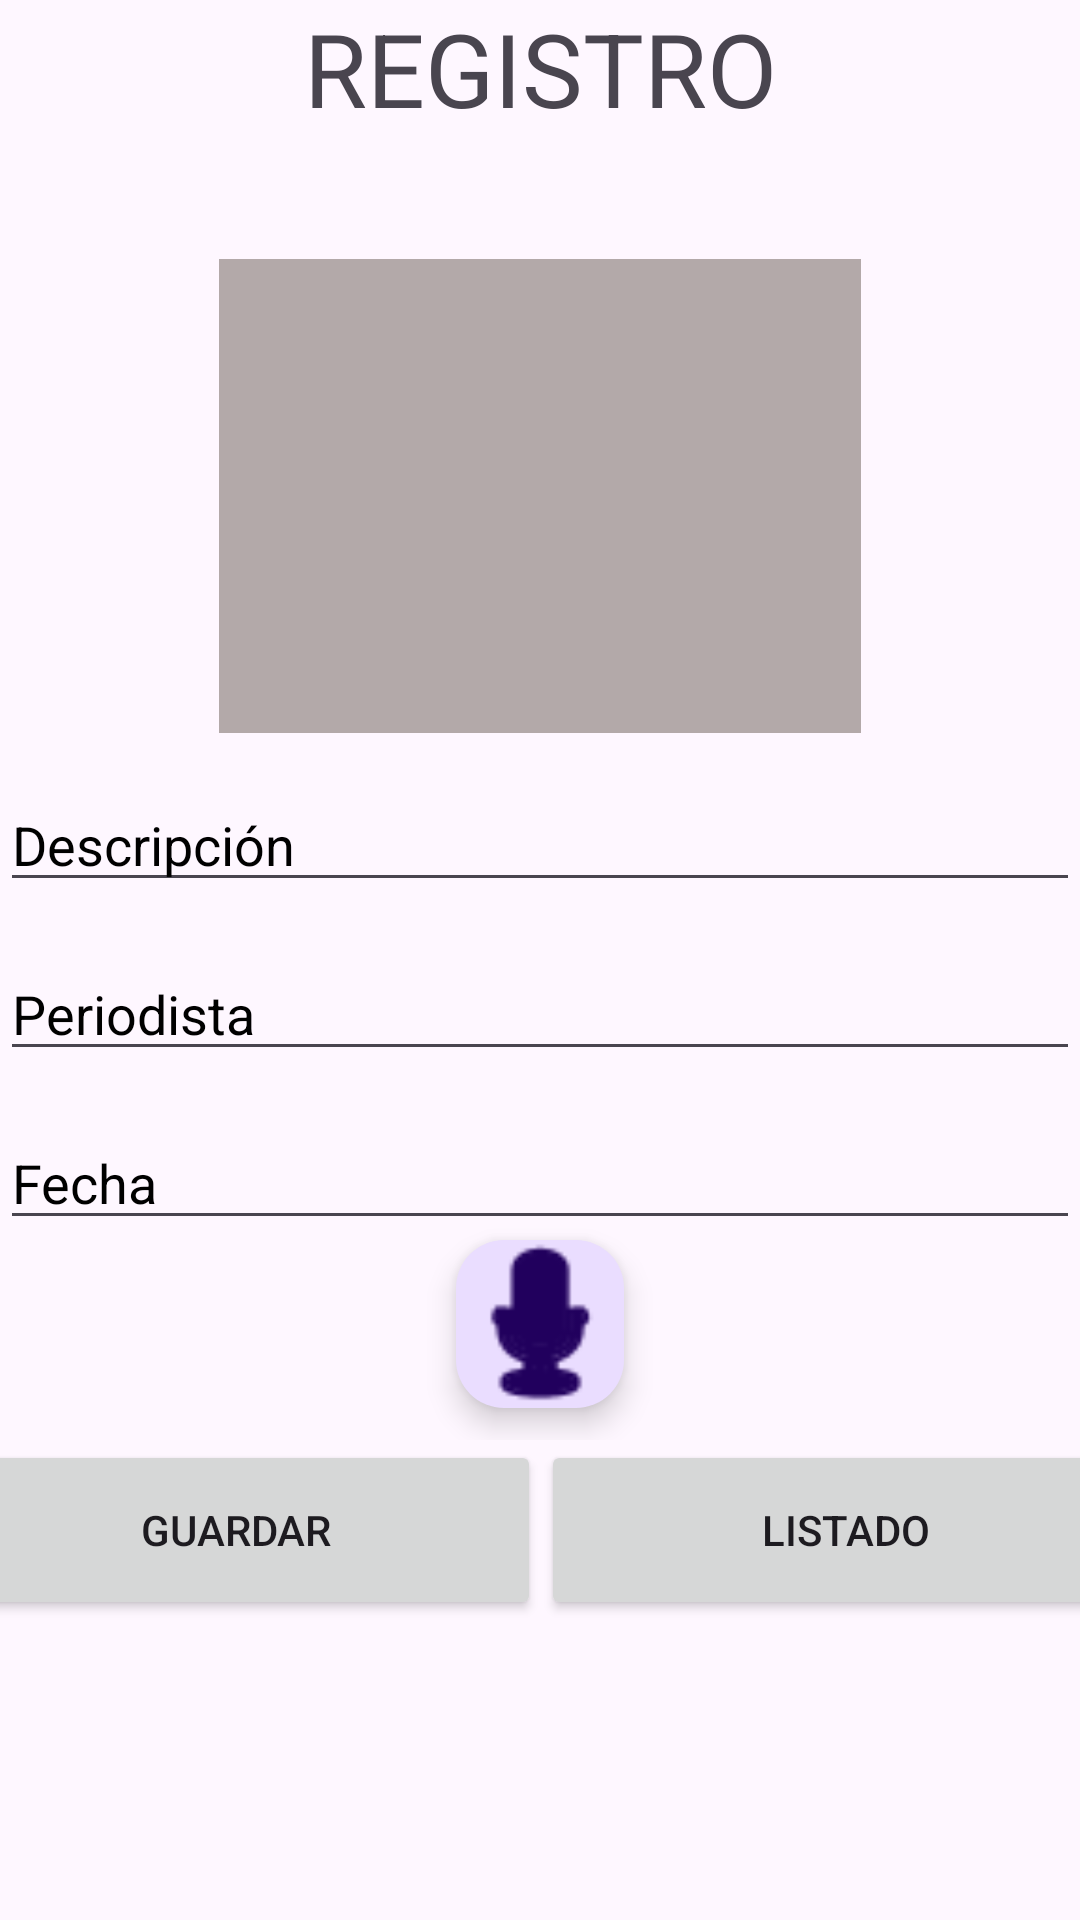

Icon click points for this 1080x1920 phone screenshot, format point (x, y):
presence audio busy: point (540, 1324)
